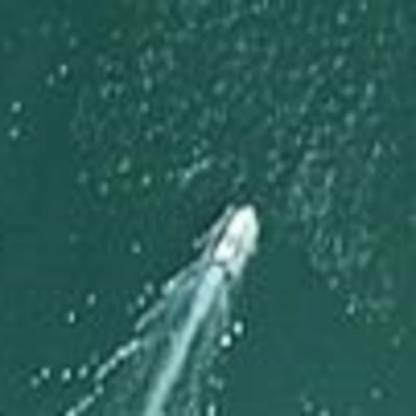ship: (202, 191, 264, 273)
